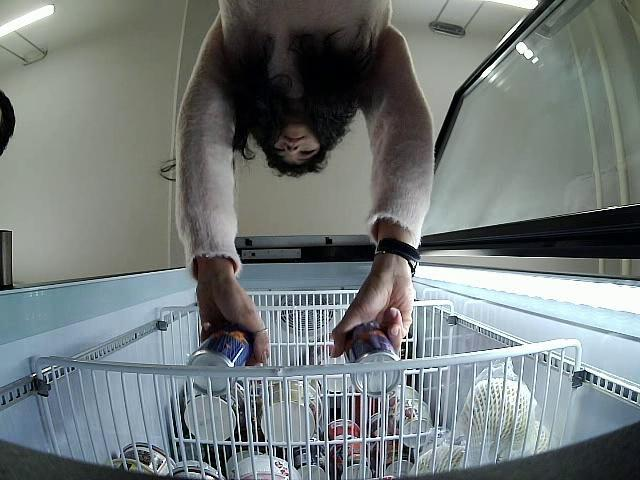16_hot6: (188, 325, 252, 396), (344, 322, 404, 396)
